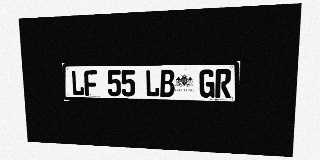5: (121, 70, 135, 97), (107, 70, 121, 96)
B: (160, 70, 174, 97)
F: (84, 70, 98, 96)
G: (199, 69, 215, 98)
L: (145, 70, 160, 97), (71, 70, 84, 96)
R: (215, 69, 231, 98)
